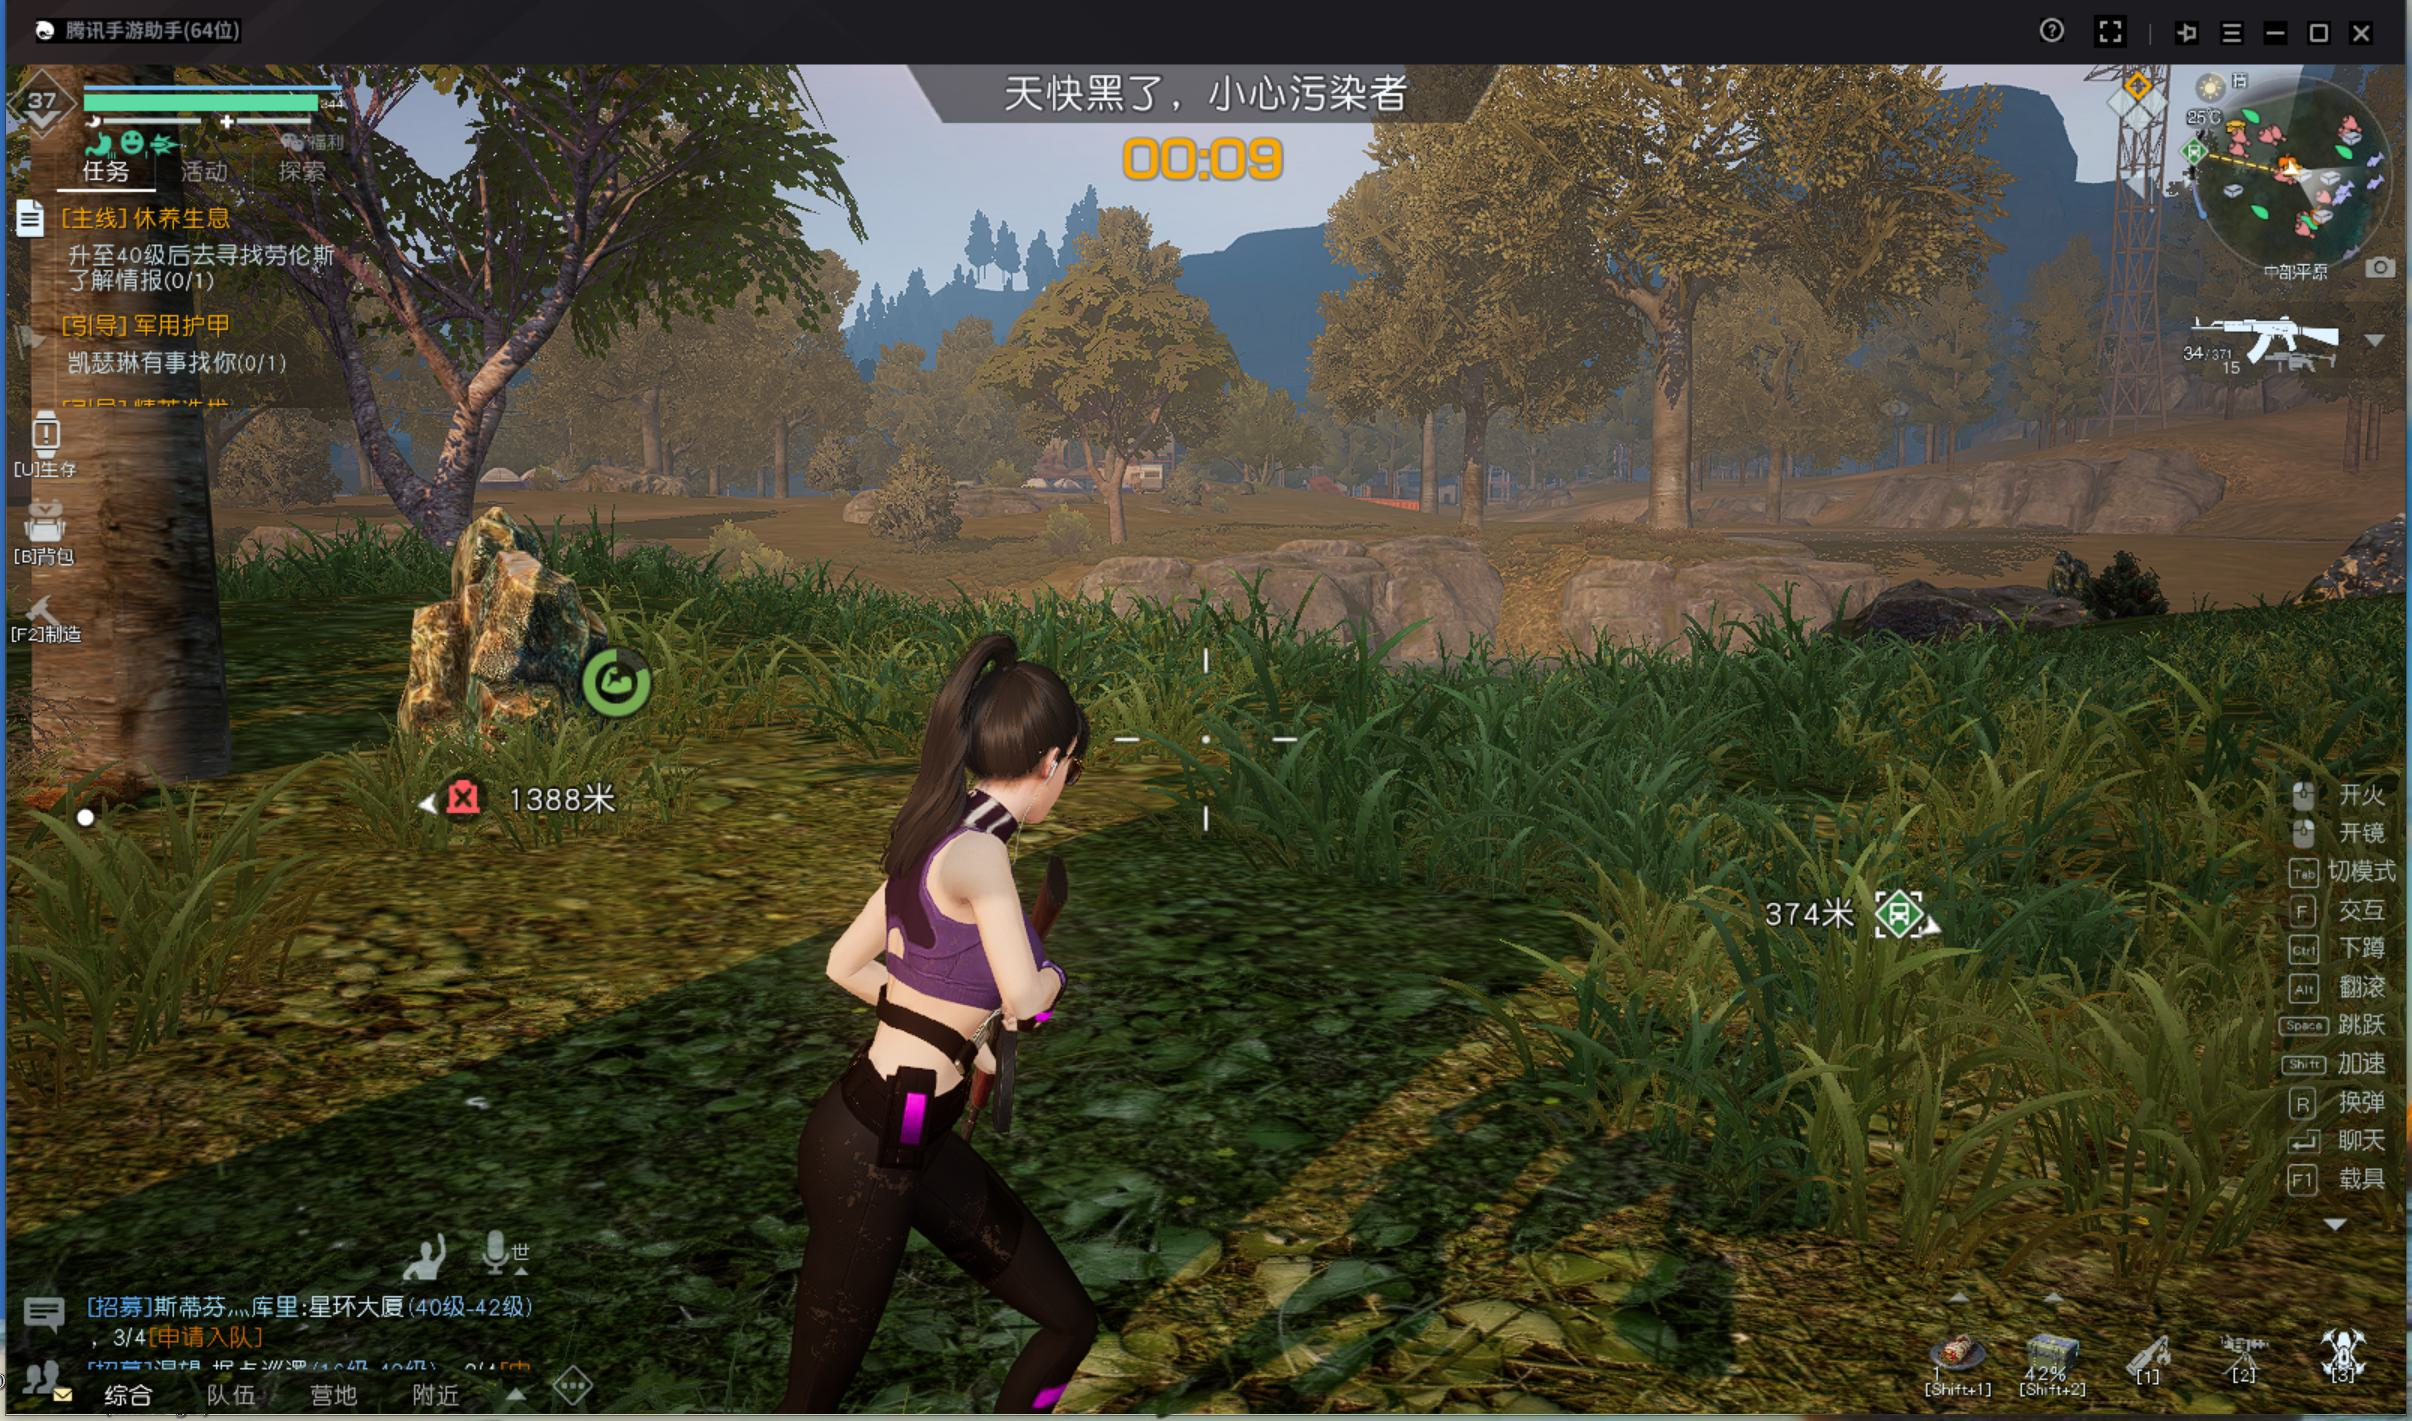stone: (391, 528, 622, 787)
tree: (24, 122, 233, 793), (1649, 332, 1697, 543), (1084, 426, 1132, 560), (1453, 416, 1502, 536), (1412, 425, 1446, 531), (638, 398, 666, 489), (1761, 453, 1788, 533), (768, 436, 795, 504)
